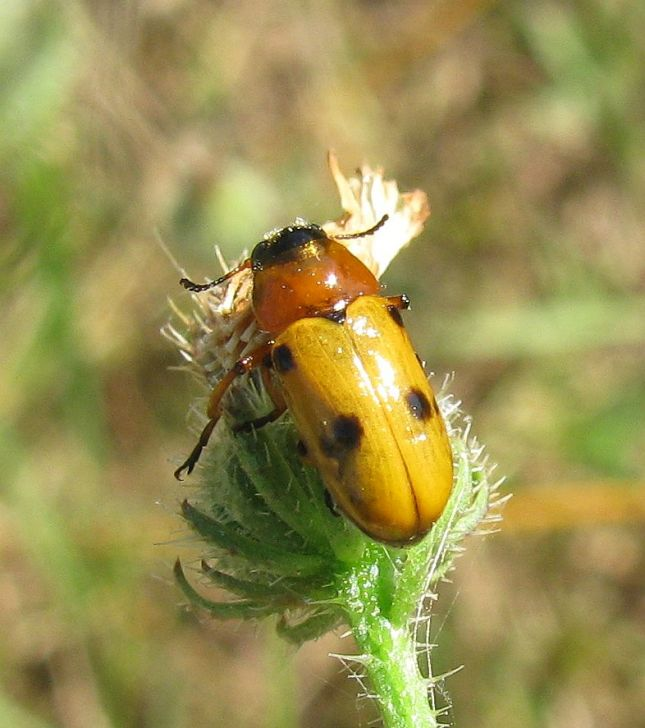Tituboea_macropus: (154, 212, 461, 555)
